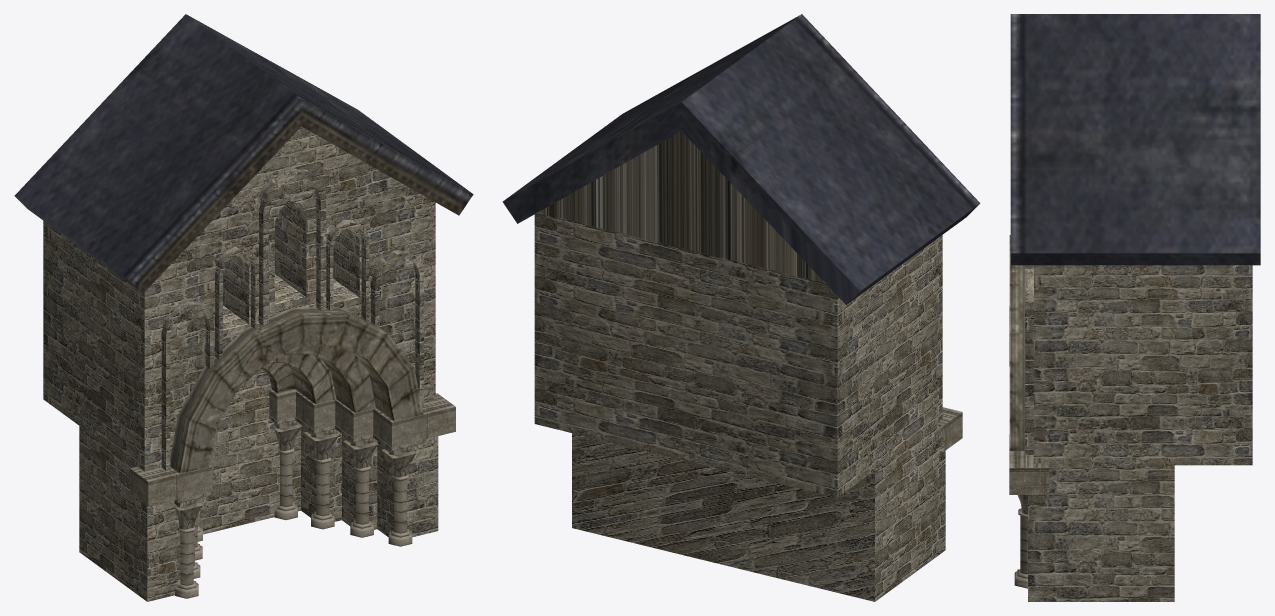
File: SM_EN_2005_jianzhu04.FBX
3 renders of one model, left to right at view 1: azimuth 30°, elevation 25°; view 2: azimuth 150°, elevation 25°; view 3: azimuth 270°, elevation 25°, orthographic. The views are drawn at different scales.
Parts seen in each view (by area): view 1: SM_EN_2005_jianzhu0402, SM_EN_2005_jianzhu0401; view 2: SM_EN_2005_jianzhu0402, SM_EN_2005_jianzhu0401; view 3: SM_EN_2005_jianzhu0401, SM_EN_2005_jianzhu0402.
Part boxes in pixels (x1,y1,x2,y2): SM_EN_2005_jianzhu0402: (43,126,438,601); SM_EN_2005_jianzhu0401: (14,14,473,598); SM_EN_2005_jianzhu0402: (534,131,945,601); SM_EN_2005_jianzhu0401: (502,14,980,451); SM_EN_2005_jianzhu0401: (1009,14,1260,588); SM_EN_2005_jianzhu0402: (1025,265,1252,601).
Size of the model in its own units: 488 by 644 by 286.
